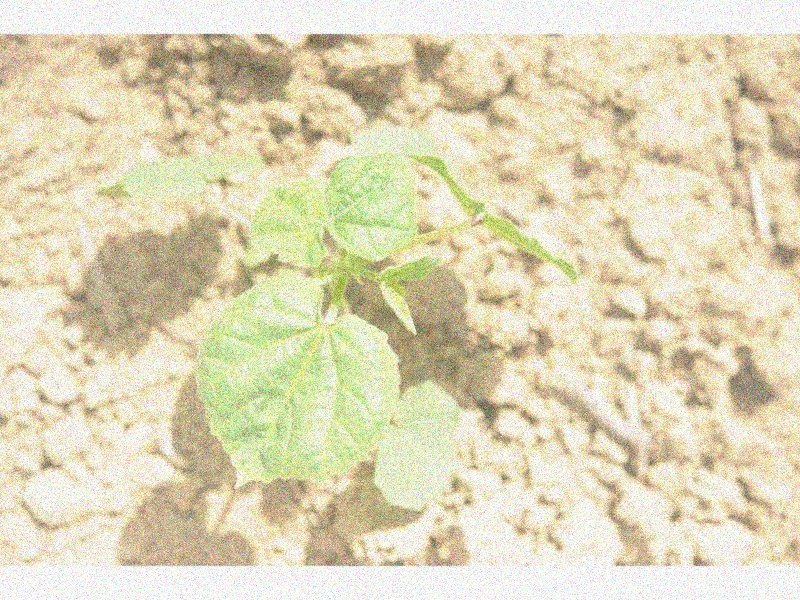velvet: (97, 122, 580, 511)
